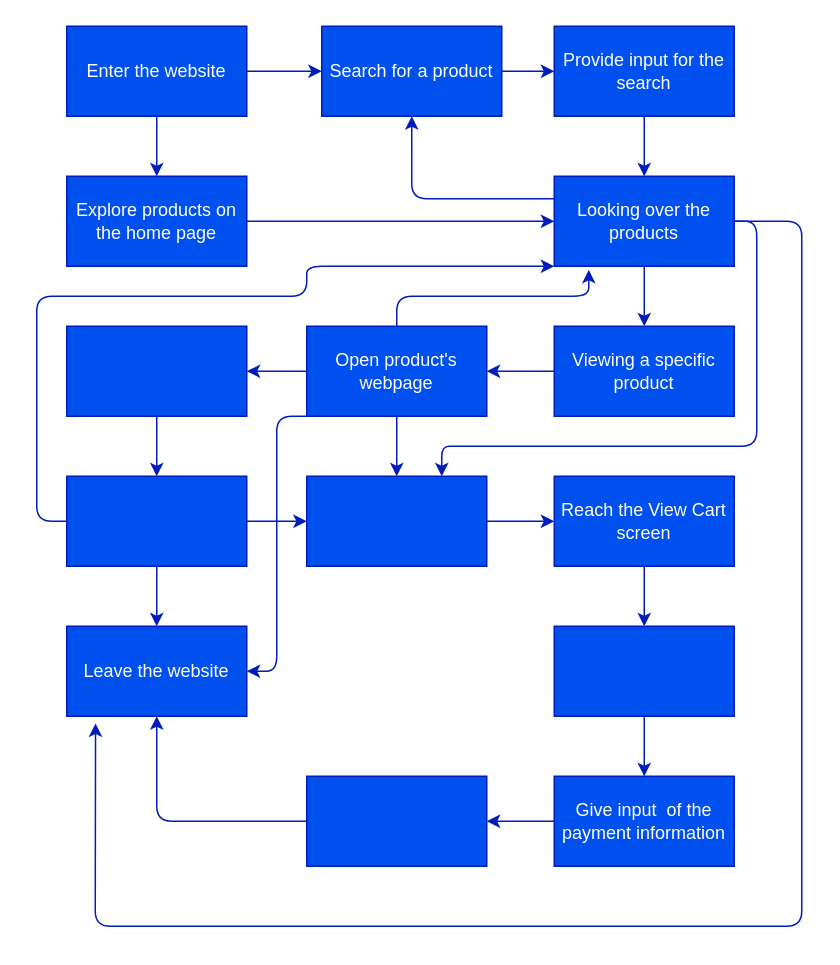
This 840x965 diagram has some shape labels left out. Each missing label, with the centre of its shape:
Add the item to cart: the point at 156,370
Checkout: the point at 396,520
Reach the View Payment screen: the point at 643,670
Receive an added to cart confirmation: the point at 156,520
See an order confirmation screen and receive an email: the point at 396,820
